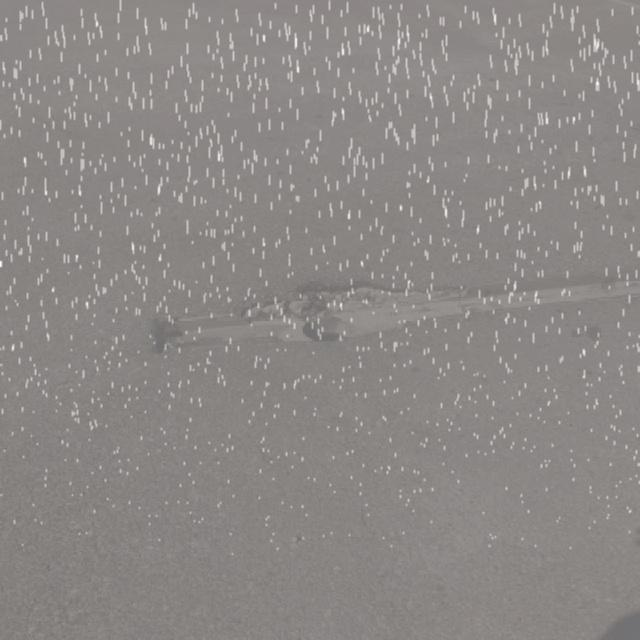Pothole: (128, 284, 459, 361)
